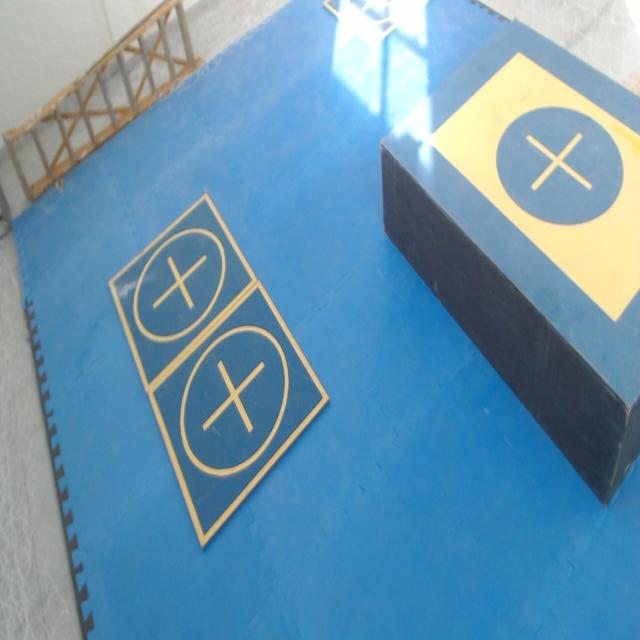base_inicio: (426, 50, 640, 324)
base_pouso: (148, 279, 330, 551), (109, 191, 259, 397), (323, 0, 431, 53)
